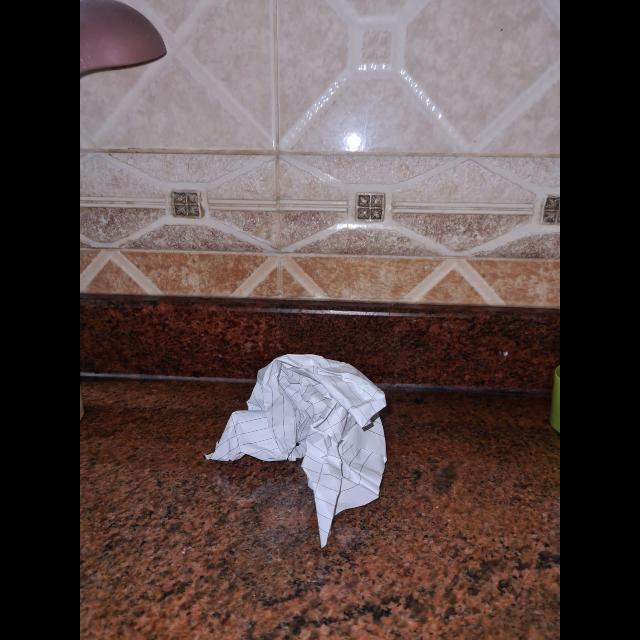scrap_paper: (210, 346, 406, 532)
